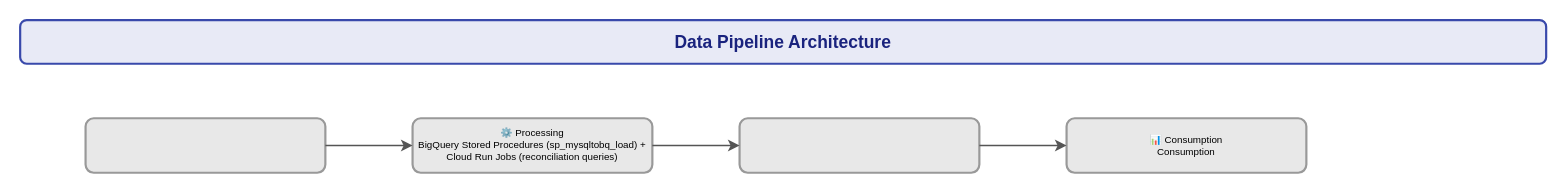
Image size: 1565x192. Some labels were removed from this diagram. Here are the shapes that lost their labels. From the top down, the centre of each, then its label:
At point (205, 145): "📥 Ingestion Datastream (MySQL CDC with BigQuery native destination)".
At point (859, 145): "💾 Storage BigQuery (verizon_data_dea)".
